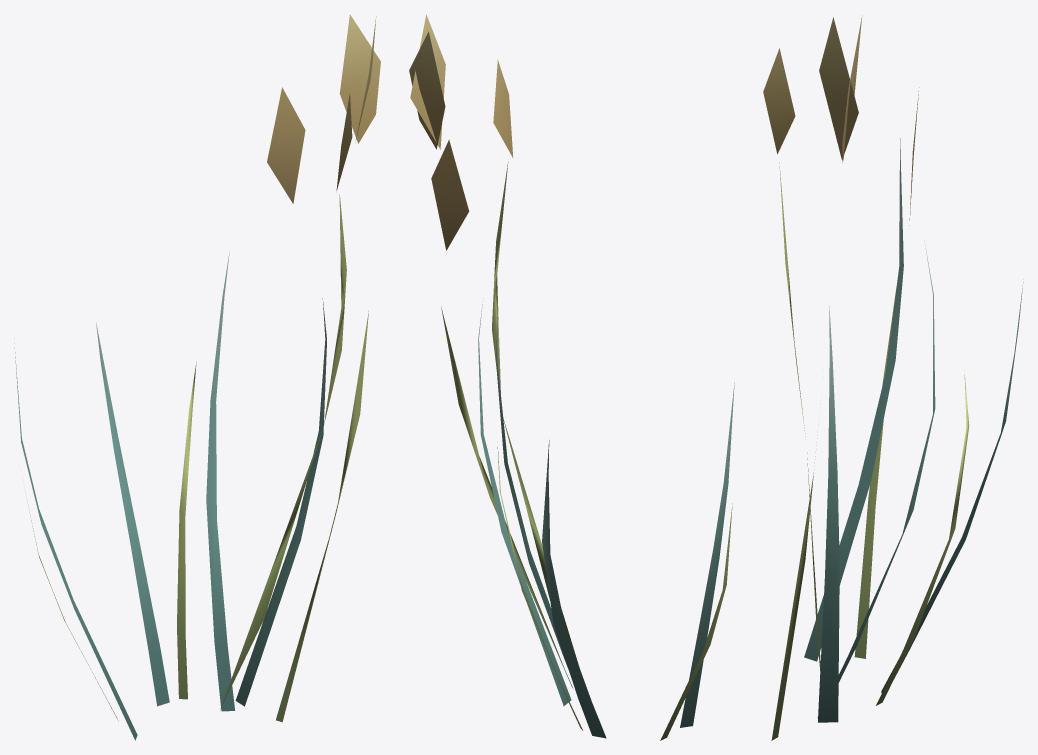
File: ReedGrassClump_LOD2.glb
3 views of the same model, side by side, from view 1: azimuth 30°, elevation 25°; view 2: azimuth 150°, elevation 25°; view 3: azimuth 270°, elevation 25° (orthographic). The views are drawn at different scales.
Visible parts, largest first — view 1: ReedGrassClump_LOD2; view 2: ReedGrassClump_LOD2; view 3: ReedGrassClump_LOD2.
Boxes of the visible parts, box(x1,y1,x2,y2) form: ReedGrassClump_LOD2: box(14, 14, 380, 740); ReedGrassClump_LOD2: box(409, 14, 734, 740); ReedGrassClump_LOD2: box(763, 15, 1023, 740).
Size of the model in its own units: 0.3669 by 0.6694 by 0.1991.
